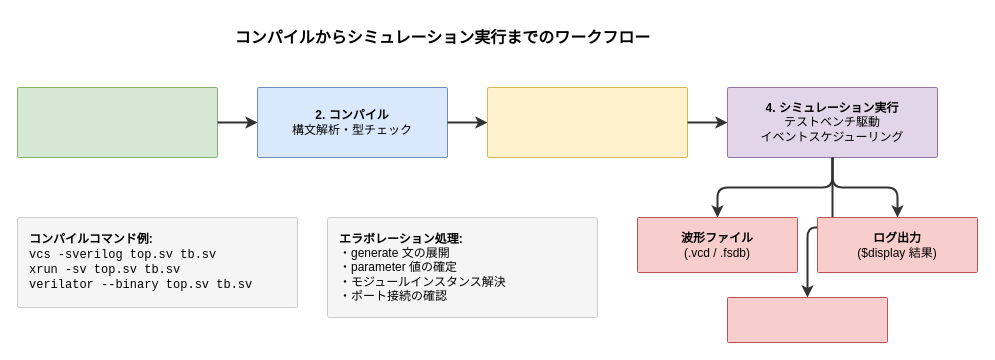
Image size: 995x360. Some labels were removed from this diagram. The shapes that lost their labels are listed below. From the top down, each one's box as (x1, y1, x2, y2) in pixels, then its label:
(16, 86, 218, 158): 1. ソースファイル準備 RTL コード (.sv/.v) テストベンチ (.sv)
(486, 86, 688, 158): 3. エラボレーション モジュール階層展開 パラメータ解決
(726, 296, 888, 342): カバレッジレポート
